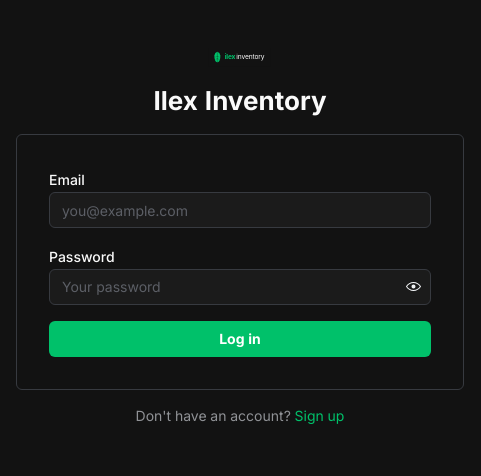
LoginPage › 401 bad credentials: shows inline alert with the error message
Type "user@example.com" into the field labelled "Email" at (240, 210), box left=49, top=192, right=431, bottom=228
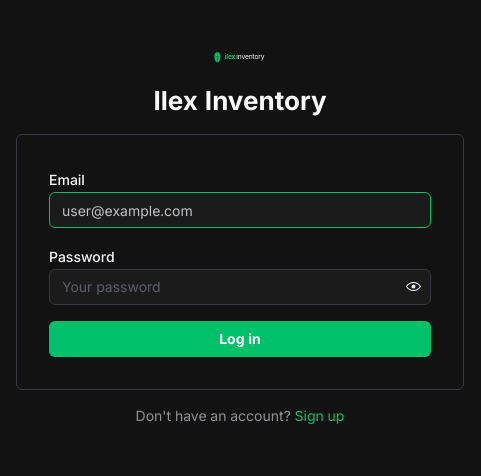
Type "wrong" into the password field labelled "Password" at (240, 287), box left=50, top=270, right=430, bottom=304
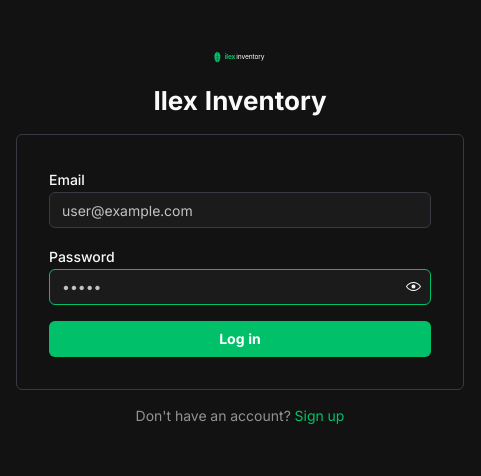
Click the button "Log in" at (240, 339), box left=49, top=321, right=431, bottom=357
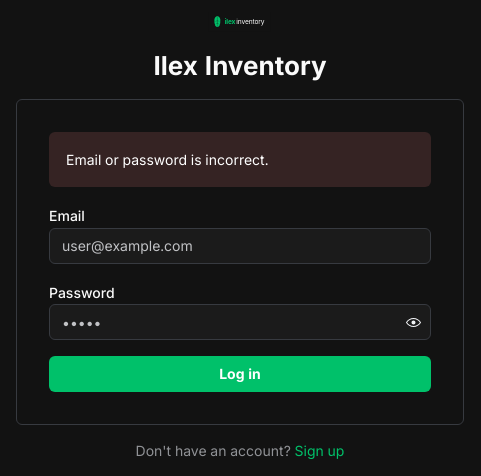
Result: the text "Email or password is incorrect." is shown at left=66, top=151, right=268, bottom=168
